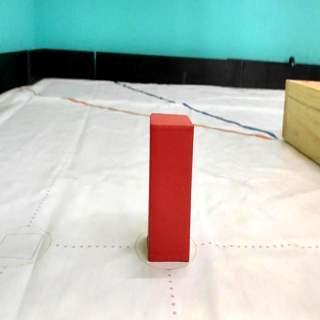redbox: (148, 112, 194, 264)
